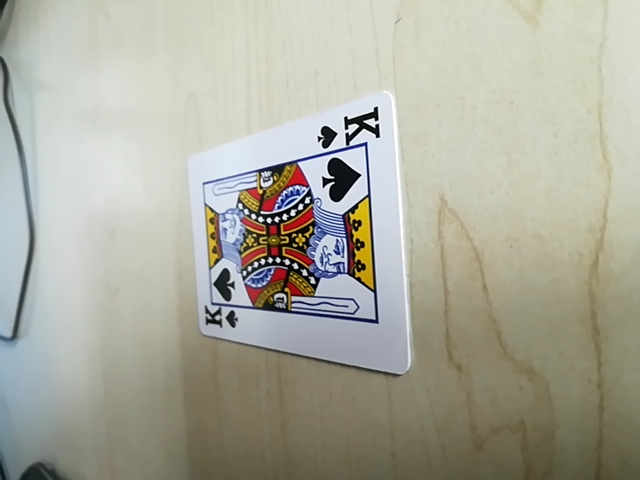ht k: (314, 105, 385, 152), (198, 298, 243, 335)
